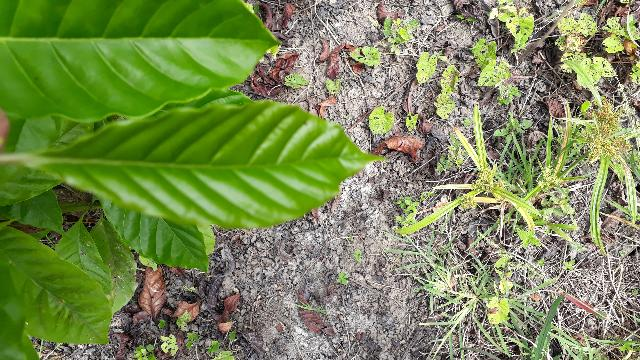healthy: (40, 100, 390, 227)
